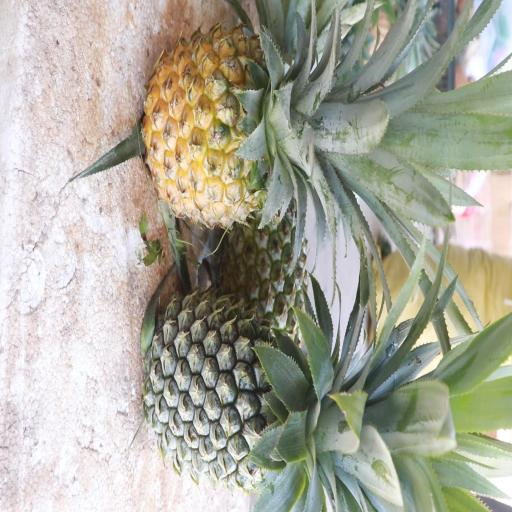Pineapple - v8 v1: (138, 14, 433, 240)
